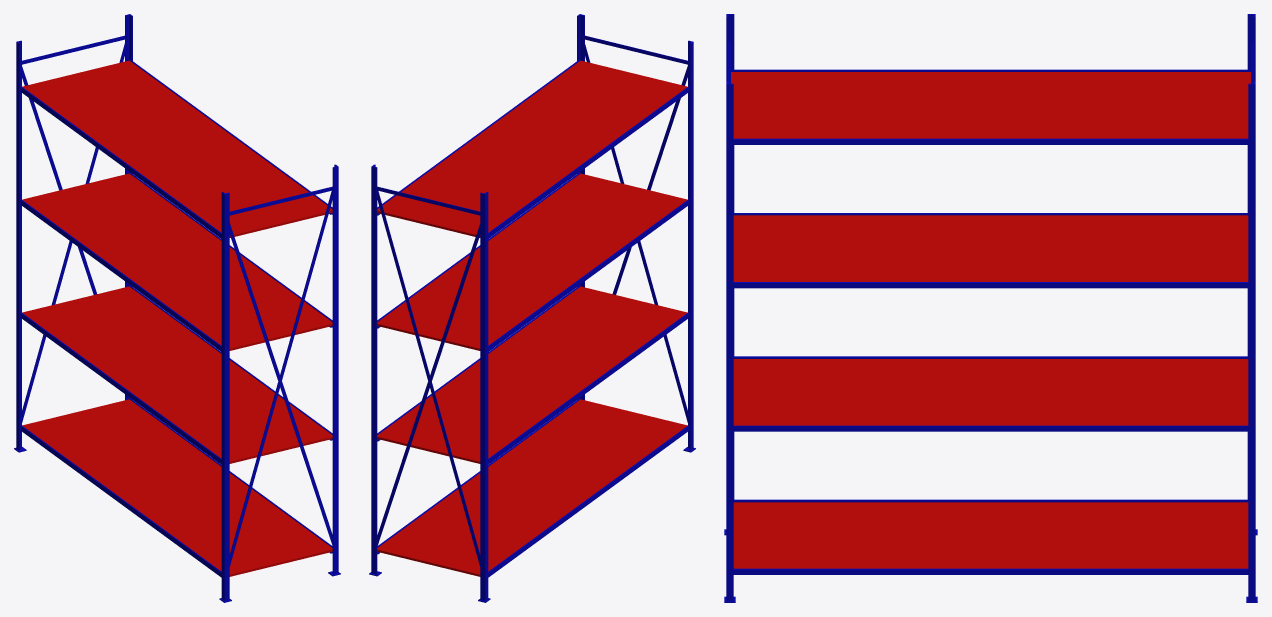
Rendered from Shelf_a_low.fbx.
3 views of the same model, side by side, from view 1: azimuth 30°, elevation 25°; view 2: azimuth 150°, elevation 25°; view 3: azimuth 270°, elevation 25° (orthographic). The views are drawn at different scales.
Visible parts, largest first — view 1: polySurface6911; view 2: polySurface6911; view 3: polySurface6911.
Boxes of the visible parts, x1,y1,x2,y2 form: polySurface6911: (14, 14, 340, 602); polySurface6911: (369, 14, 695, 602); polySurface6911: (724, 14, 1257, 602).
Size of the model in its own units: 92.25 by 308 by 288.
